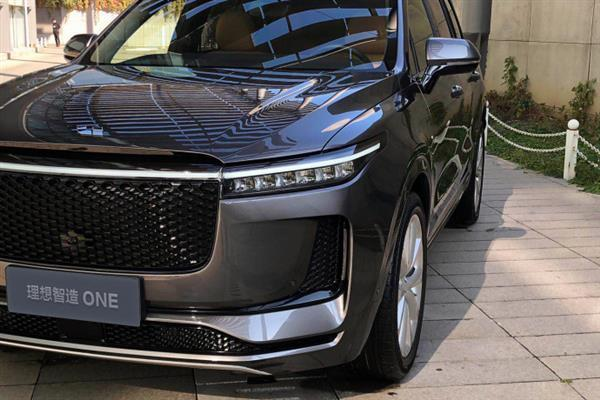Li Auto: (75, 120, 105, 137)
